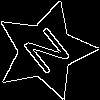N: (20, 25, 79, 84)
